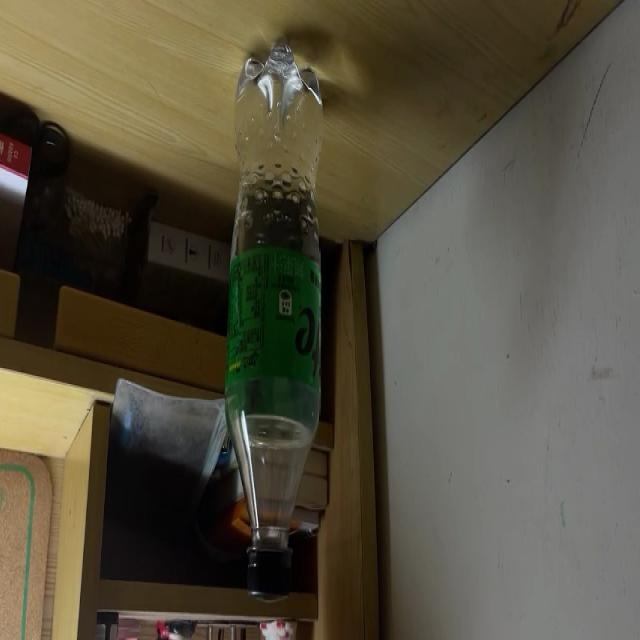Sprite: (225, 40, 321, 601)
